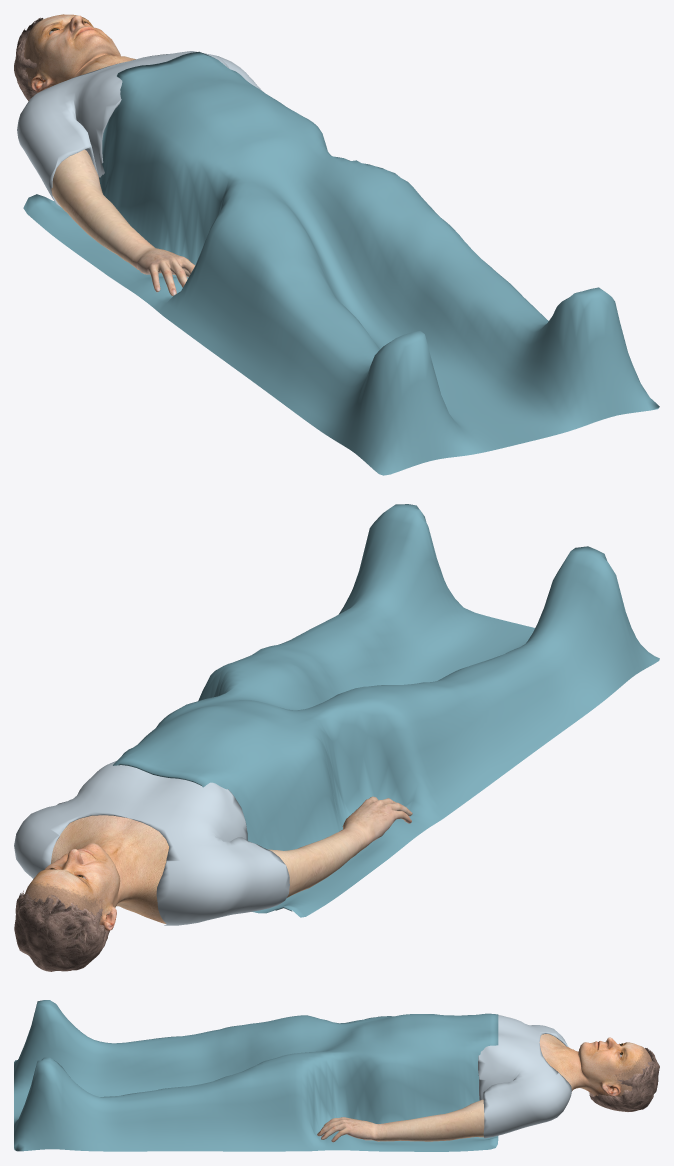
3 views of the same model, one above another, from view 1: azimuth 30°, elevation 25°; view 2: azimuth 150°, elevation 25°; view 3: azimuth 270°, elevation 25° (orthographic). The views are drawn at different scales.
Visible parts, largest first — view 1: sheet, gown, arms, body, hair; view 2: sheet, gown, body, hair, arms; view 3: sheet, gown, body, arms, hair.
Part boxes in pixels (left/top/right/bottom): sheet: left=23, top=51, right=659, bottom=475; gown: left=17, top=51, right=263, bottom=207; arms: left=51, top=149, right=195, bottom=296; body: left=24, top=14, right=135, bottom=92; hair: left=14, top=17, right=43, bottom=100; sheet: left=113, top=504, right=659, bottom=917; gown: left=14, top=761, right=289, bottom=925; body: left=23, top=815, right=168, bottom=931; hair: left=14, top=890, right=109, bottom=971; arms: left=268, top=796, right=412, bottom=897; sheet: left=14, top=1000, right=498, bottom=1151; gown: left=478, top=1015, right=571, bottom=1138; body: left=539, top=1034, right=651, bottom=1097; arms: left=317, top=1099, right=484, bottom=1142; hair: left=589, top=1048, right=659, bottom=1111.
Bounding box in the file's own units: 0.6427 × 0.277 × 1.91.
Materials: 8 (6 with a texture image).
